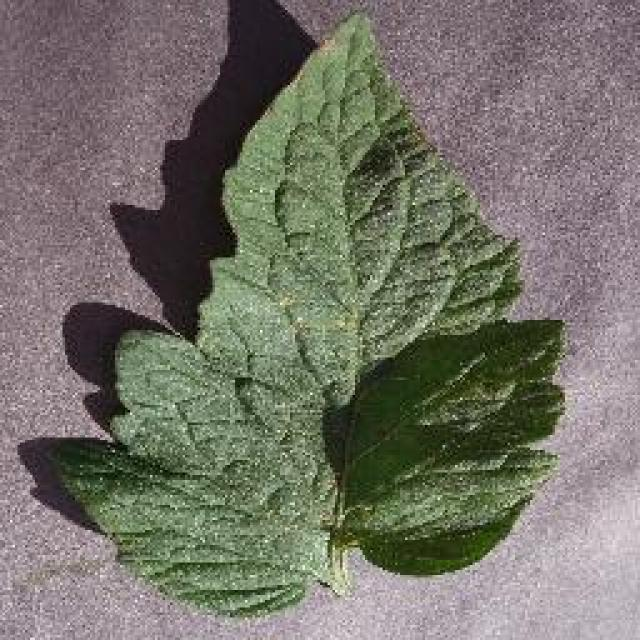Tomato Septoria spot leaf: (59, 16, 566, 619)
